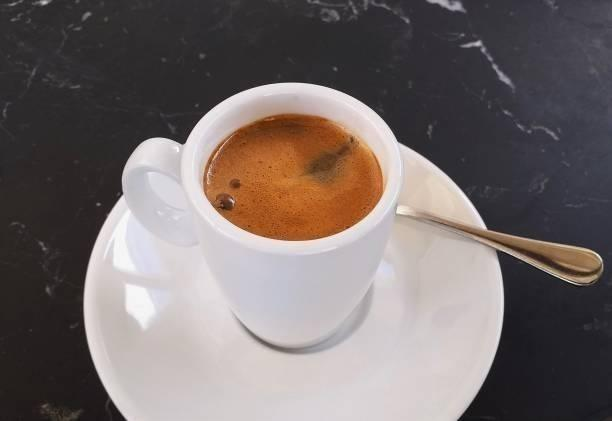cup-handle: (121, 81, 405, 353)
